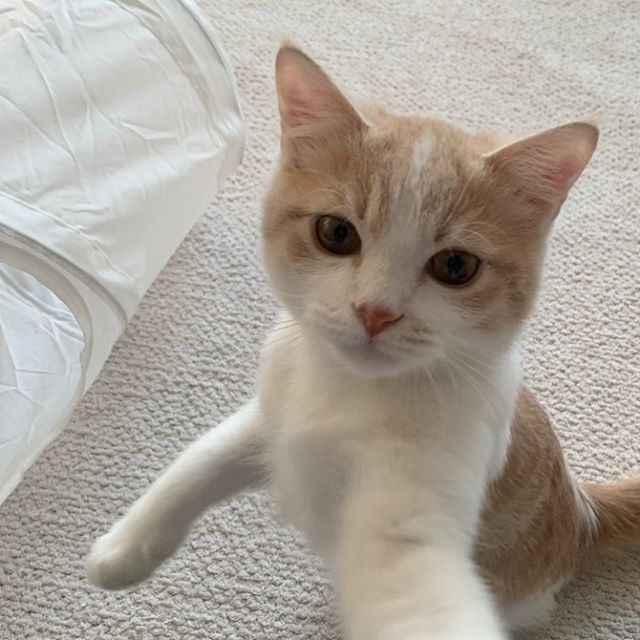cat: (251, 43, 599, 392)
